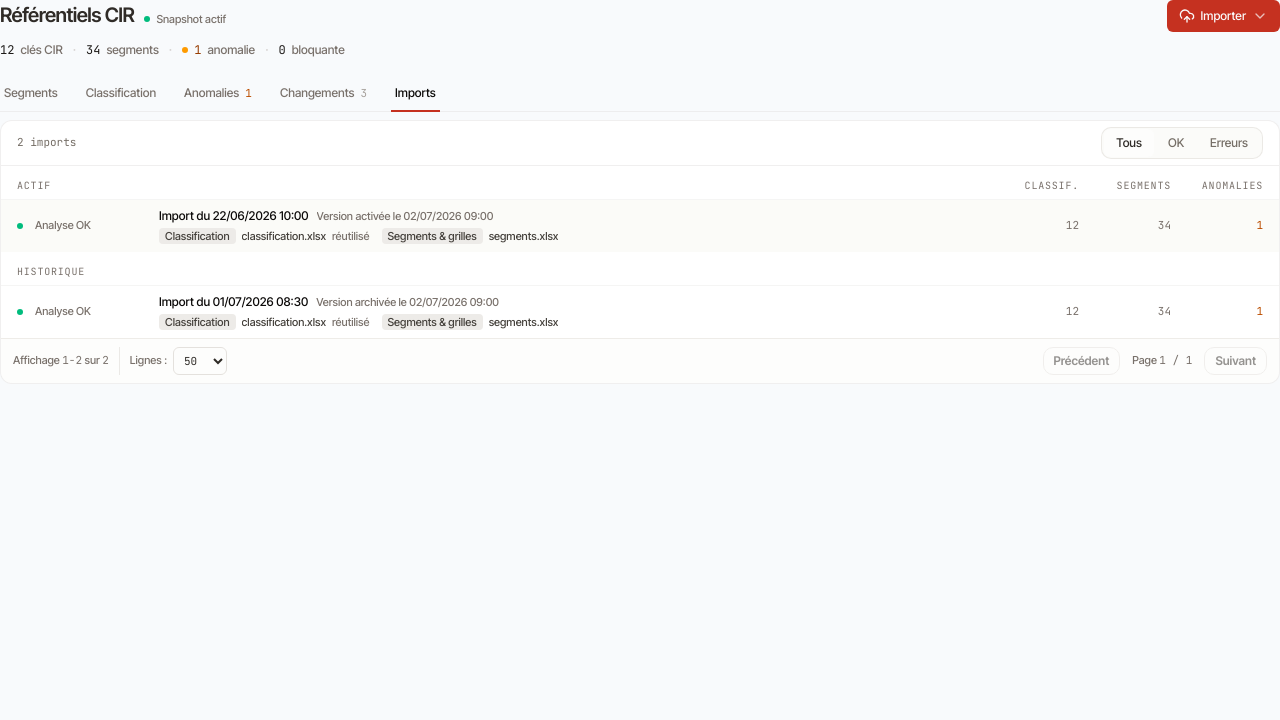
PricingReferencesPage › réactive une version archivée après confirmation explicite (rollback)
The image size is (1280, 720).
Step 1. Click the button with aria-label "voir le détail de l'import du" → click(63, 311), box [1,286,1279,338]
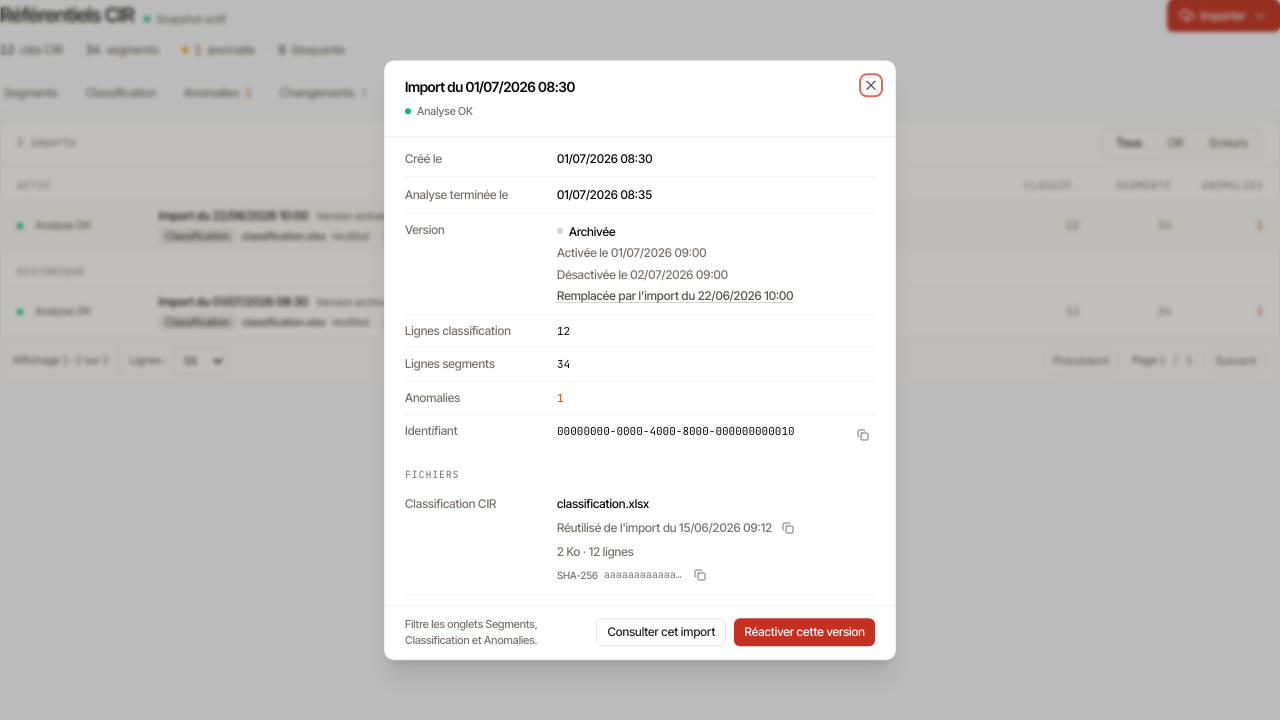
Step 2. Click the button "Réactiver cette version" → click(805, 632), box [734,618,875,646]
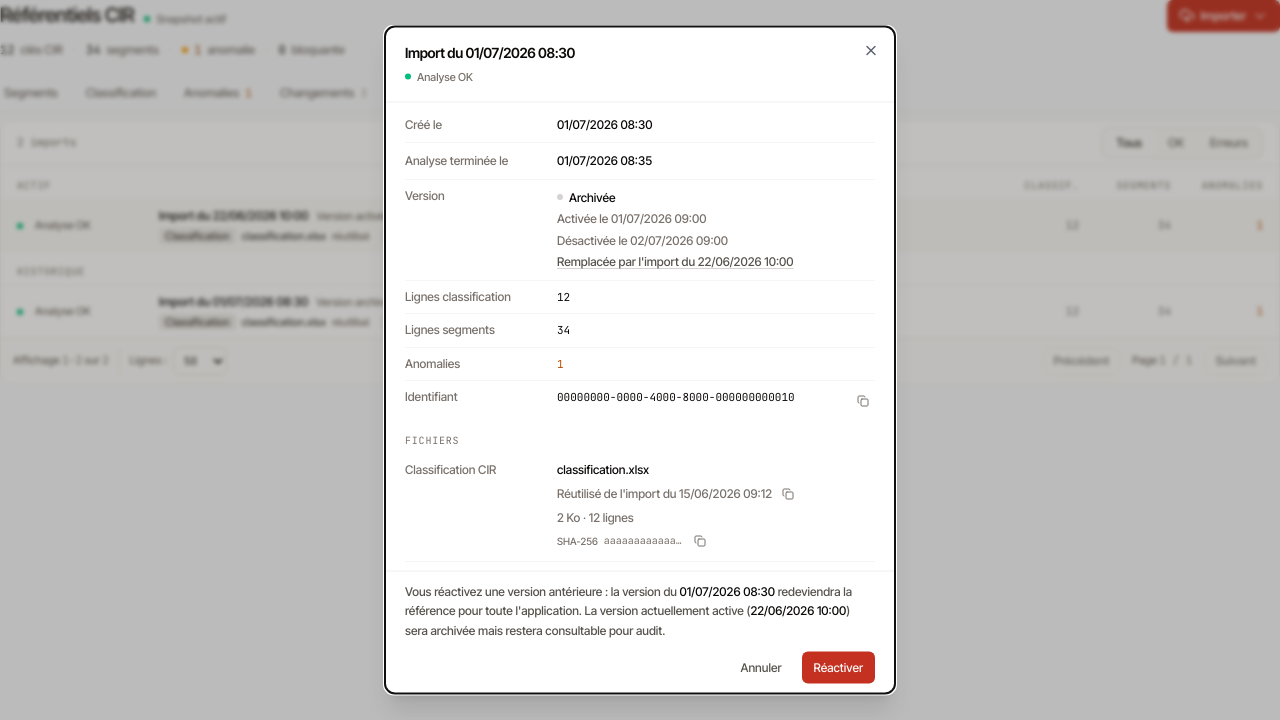
Expected: the dialog shows "vous réactivez une version antérieure", [405,583,608,598]
Step 3. Click the button with aria-label "Confirmer la réactivation de cette version" → click(838, 668), box [802,652,875,684]
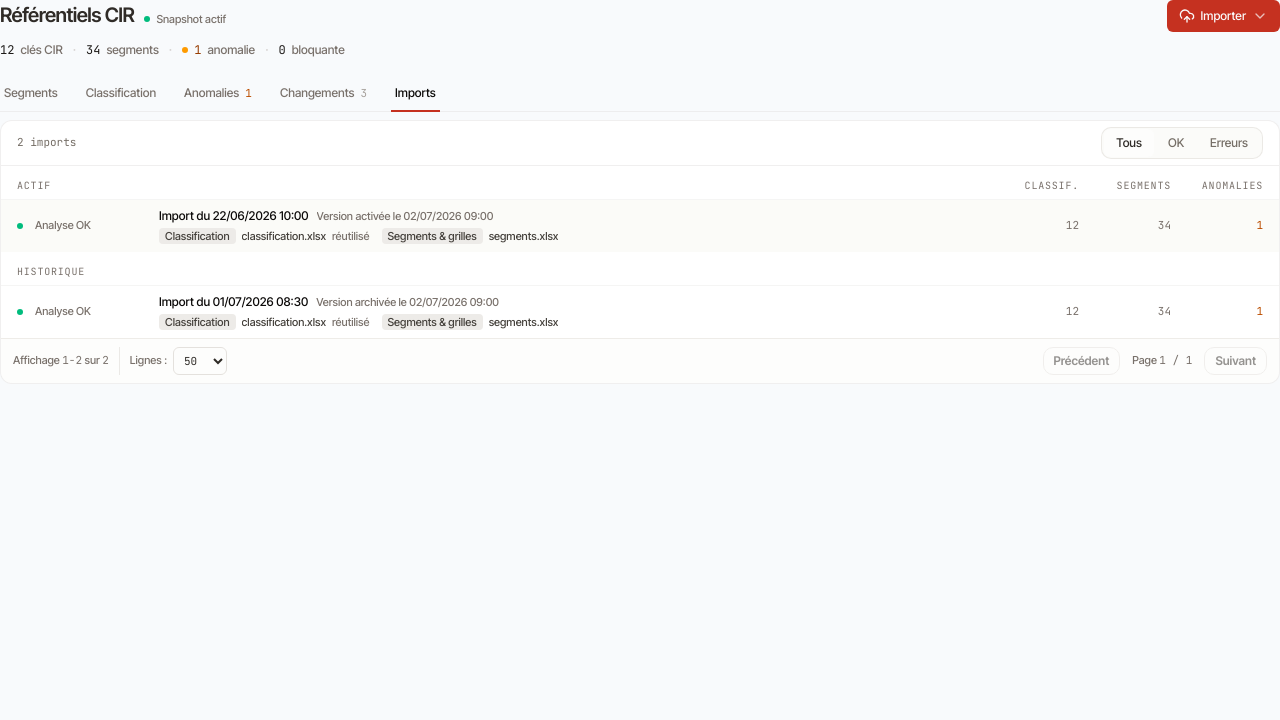
Expected: the dialog is gone
